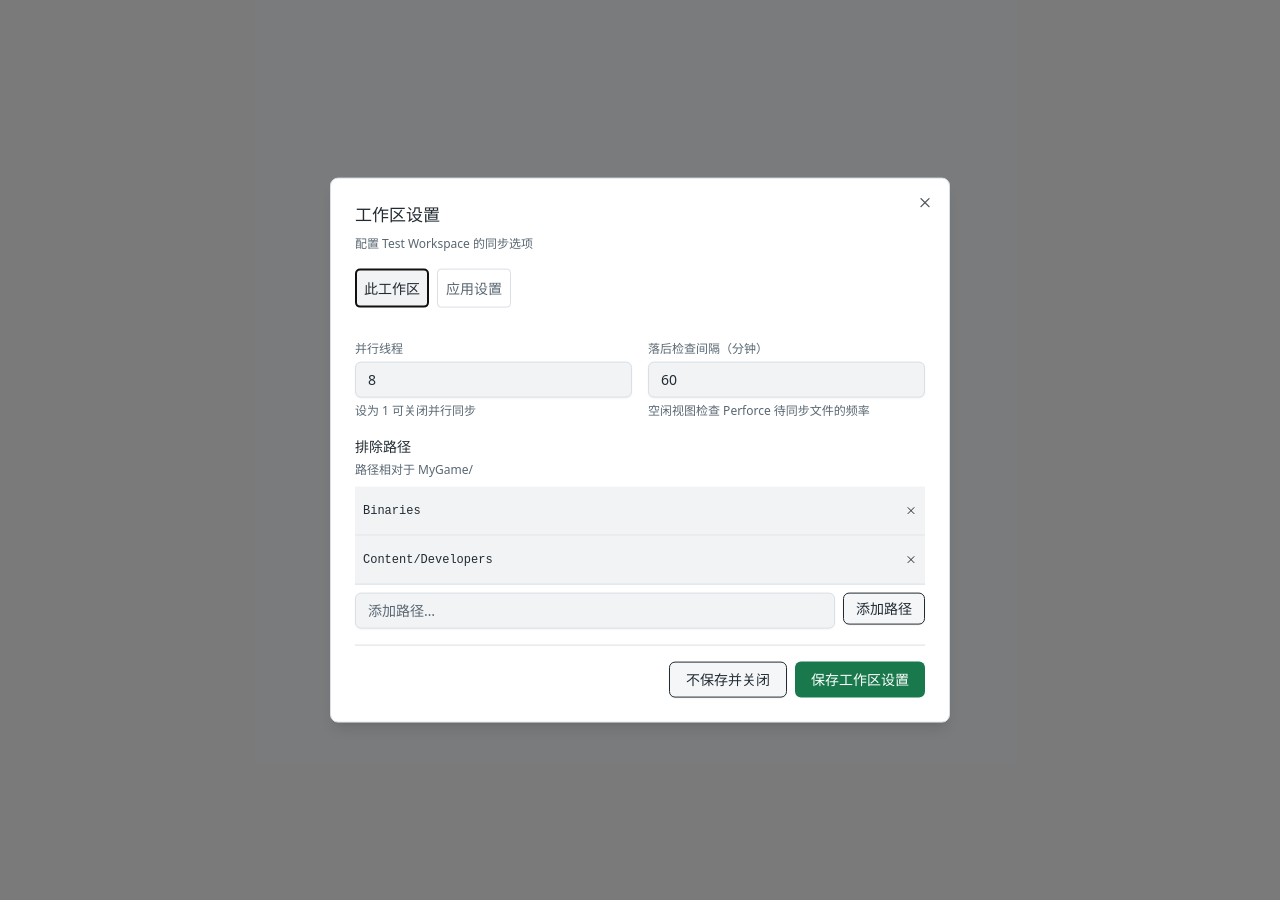
Test case: SettingsDialog › zh smoke: language option labels equal settings.language.zh identical to en
Click the button "应用设置".
click(474, 288)  # box [437, 268, 511, 307]
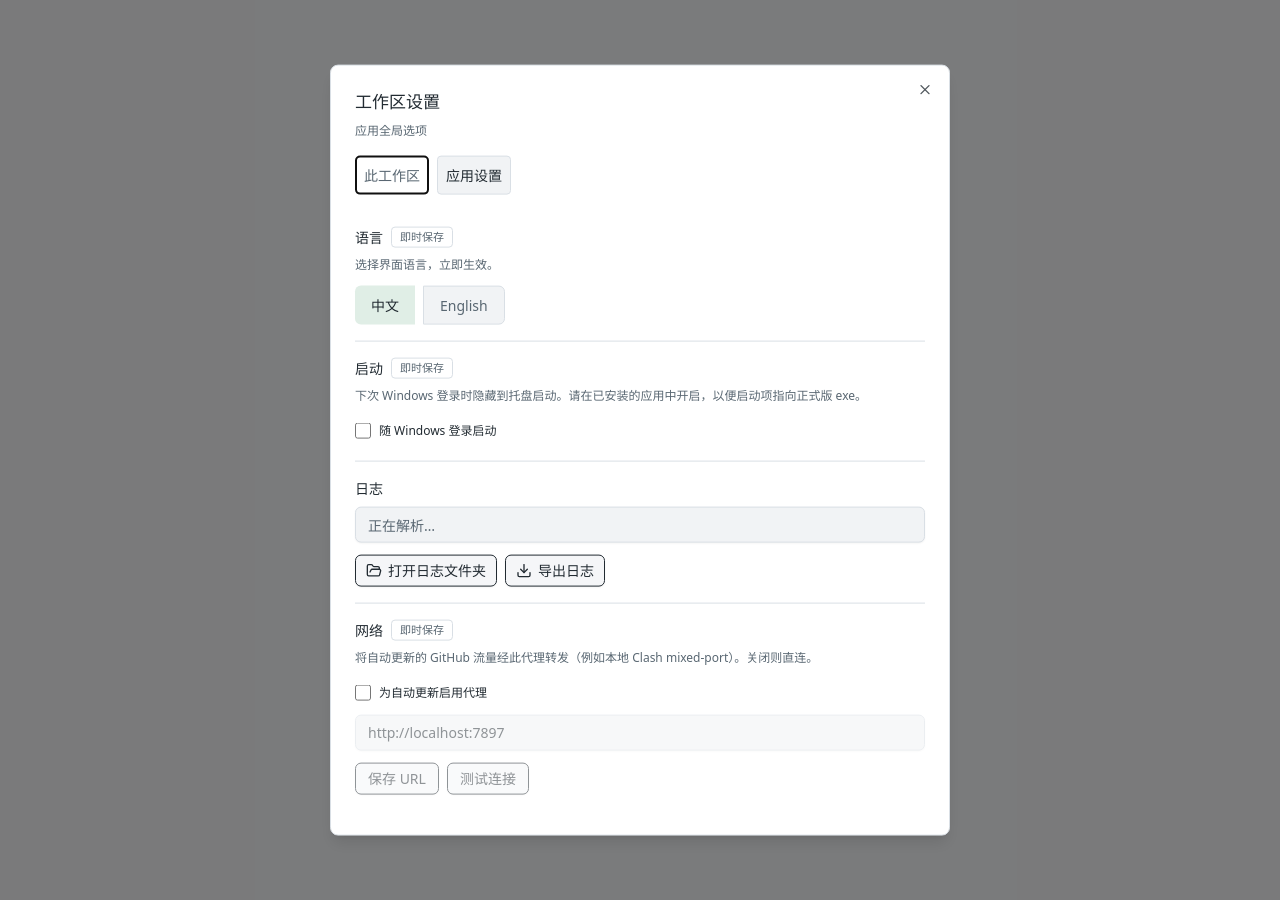
Expected: the radio button labelled "中文" is shown, [355, 285, 415, 324]
Expected: the radio button labelled "English" is shown, [423, 285, 505, 324]
